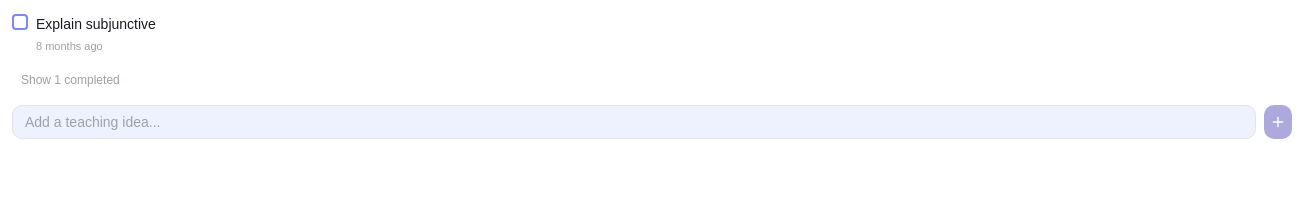
Test case: TeachingTodosCard › reveals completed todos when toggle is clicked
Click the button with test id "todo-show-completed-toggle" at {"x": 70, "y": 80}, box [12,66,129,92]
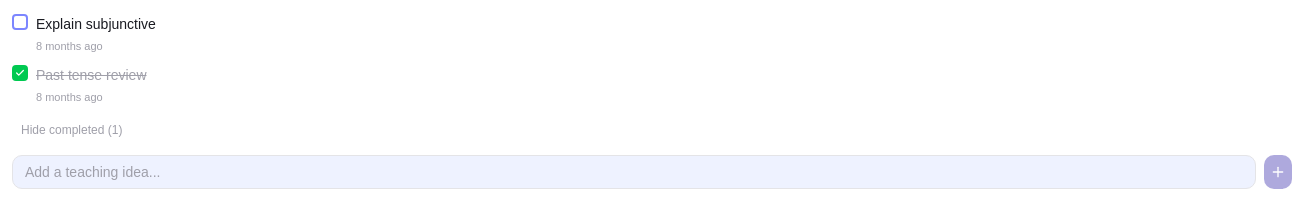
Expected: the number of list items with test id "teaching-todo-item" is 2, [12,14,156,52]; [12,64,146,102]
